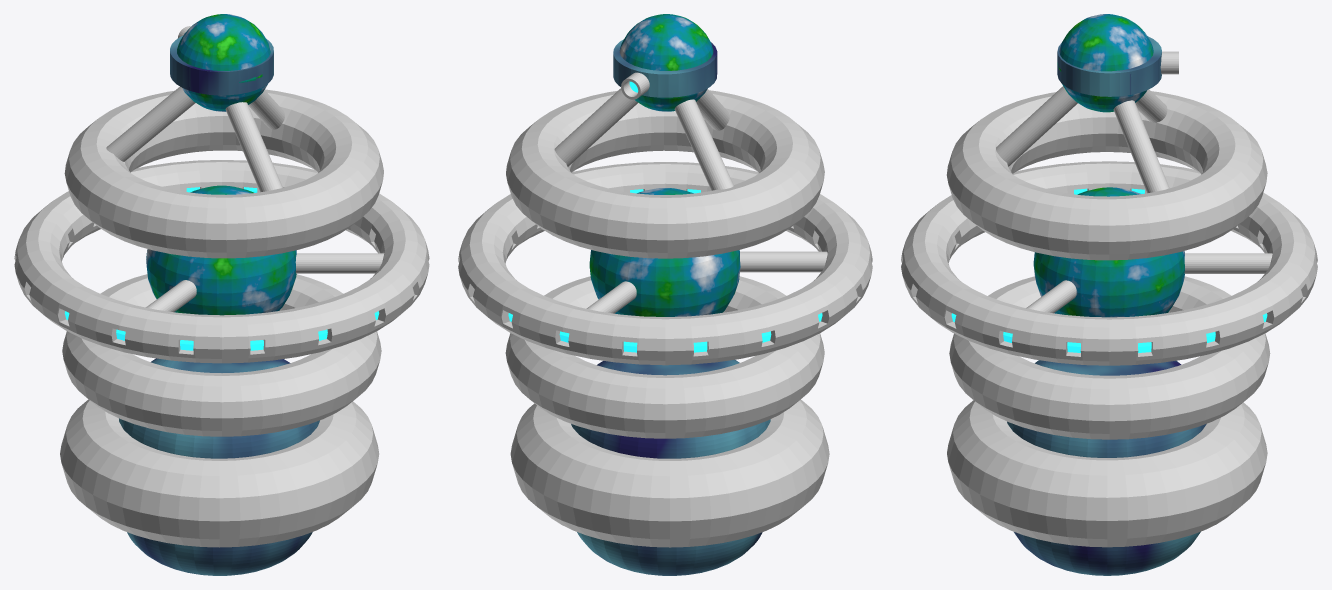
Rendered from Turm10.fbx.
The picture shows the model from 3 angles, left to right: view 1: azimuth 30°, elevation 25°; view 2: azimuth 150°, elevation 25°; view 3: azimuth 270°, elevation 25°; orthographic projection.
Parts seen in each view (by area): view 1: Torus.001, Torus.003, Torus.007, Torus, Cylinder.008, Sphere, Sphere.001, Cylinder.007, Cylinder.006, Cylinder.003, Cylinder.002, Cylinder.005 (+1 smaller); view 2: Torus.001, Torus.003, Torus.007, Torus, Cylinder.008, Sphere, Sphere.001, Cylinder.007, Cylinder.005, Cylinder.002, Cylinder.001, Cylinder.006 (+2 smaller); view 3: Torus.001, Torus.003, Torus.007, Torus, Cylinder.008, Sphere, Sphere.001, Cylinder.005, Cylinder.006, Cylinder.001, Cylinder.003, Cylinder.007 (+1 smaller).
Part boxes in pixels (box(x1,y1,x2,y2)): Torus.001: box(64, 89, 383, 258); Torus.003: box(14, 160, 429, 363); Torus.007: box(60, 399, 379, 547); Torus: box(62, 274, 381, 436); Cylinder.008: box(119, 36, 319, 575); Sphere: box(146, 185, 296, 315); Sphere.001: box(177, 14, 270, 111); Cylinder.007: box(106, 86, 195, 161); Cylinder.006: box(225, 102, 282, 192); Cylinder.003: box(295, 253, 384, 273); Cylinder.002: box(146, 280, 196, 312); Cylinder.005: box(248, 90, 284, 129); Torus.001: box(506, 90, 824, 258); Torus.003: box(458, 162, 872, 365); Torus.007: box(510, 399, 829, 547); Torus: box(505, 276, 824, 438); Cylinder.008: box(571, 39, 770, 575); Sphere: box(589, 188, 740, 316); Sphere.001: box(619, 14, 713, 111); Cylinder.007: box(674, 99, 733, 190); Cylinder.005: box(554, 88, 637, 166); Cylinder.002: box(740, 251, 827, 272); Cylinder.001: box(586, 281, 636, 313); Cylinder.006: box(696, 89, 729, 130); Torus.001: box(946, 91, 1267, 260); Torus.003: box(901, 161, 1317, 365); Torus.007: box(947, 400, 1267, 547); Torus: box(949, 276, 1270, 439); Cylinder.008: box(1007, 36, 1206, 575); Sphere: box(1033, 187, 1184, 317); Sphere.001: box(1057, 14, 1153, 112); Cylinder.005: box(1113, 100, 1169, 193); Cylinder.006: box(996, 86, 1077, 166); Cylinder.001: box(1184, 253, 1272, 273); Cylinder.003: box(1026, 280, 1076, 313); Cylinder.007: box(1135, 89, 1167, 122).
Bounding box in the file's own units: 548 × 774 × 546.
Materials: 4 (2 with a texture image).
